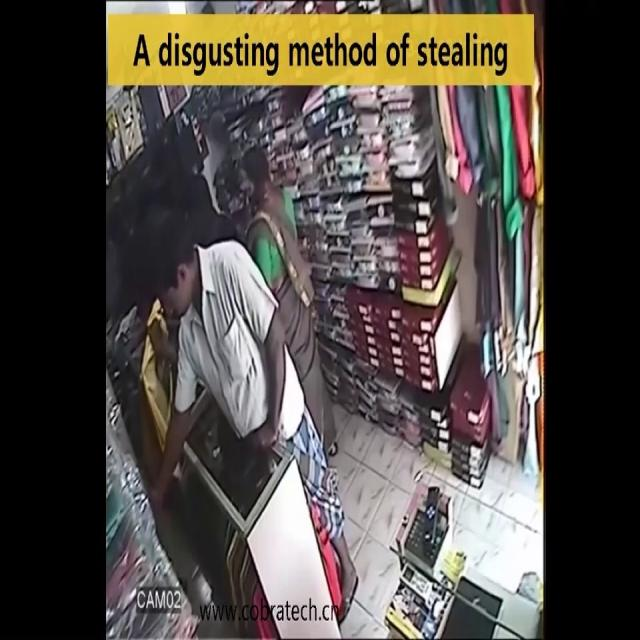normal: (142, 148, 353, 606), (238, 135, 303, 279)
